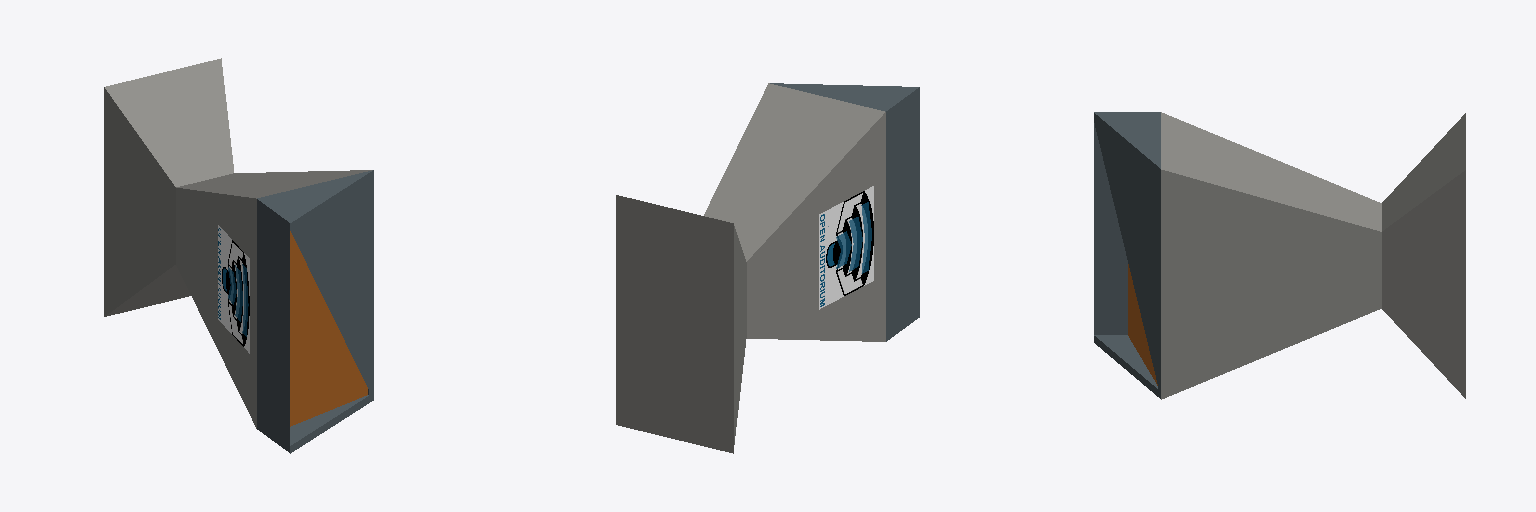
The picture shows the model from 3 angles: view 1: azimuth 30°, elevation 25°; view 2: azimuth 150°, elevation 25°; view 3: azimuth 270°, elevation 25°; orthographic projection.
Parts seen in each view (by area): view 1: Mesh1 Model, Mesh2 Model; view 2: Mesh1 Model, Mesh2 Model; view 3: Mesh1 Model.
Part boxes in pixels (x1,y1,x2,y2): Mesh1 Model: (104,58,373,453); Mesh2 Model: (218,225,249,353); Mesh1 Model: (616,83,919,453); Mesh2 Model: (819,186,873,309); Mesh1 Model: (1094,112,1465,399).
Size of the model in its own units: 0.4 by 0.75 by 1.1.
5 materials, 1 textured.